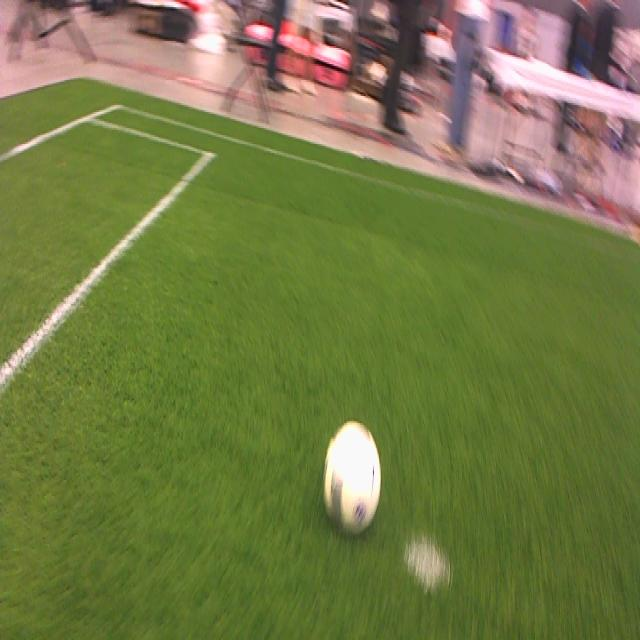ball: (321, 423, 382, 537)
